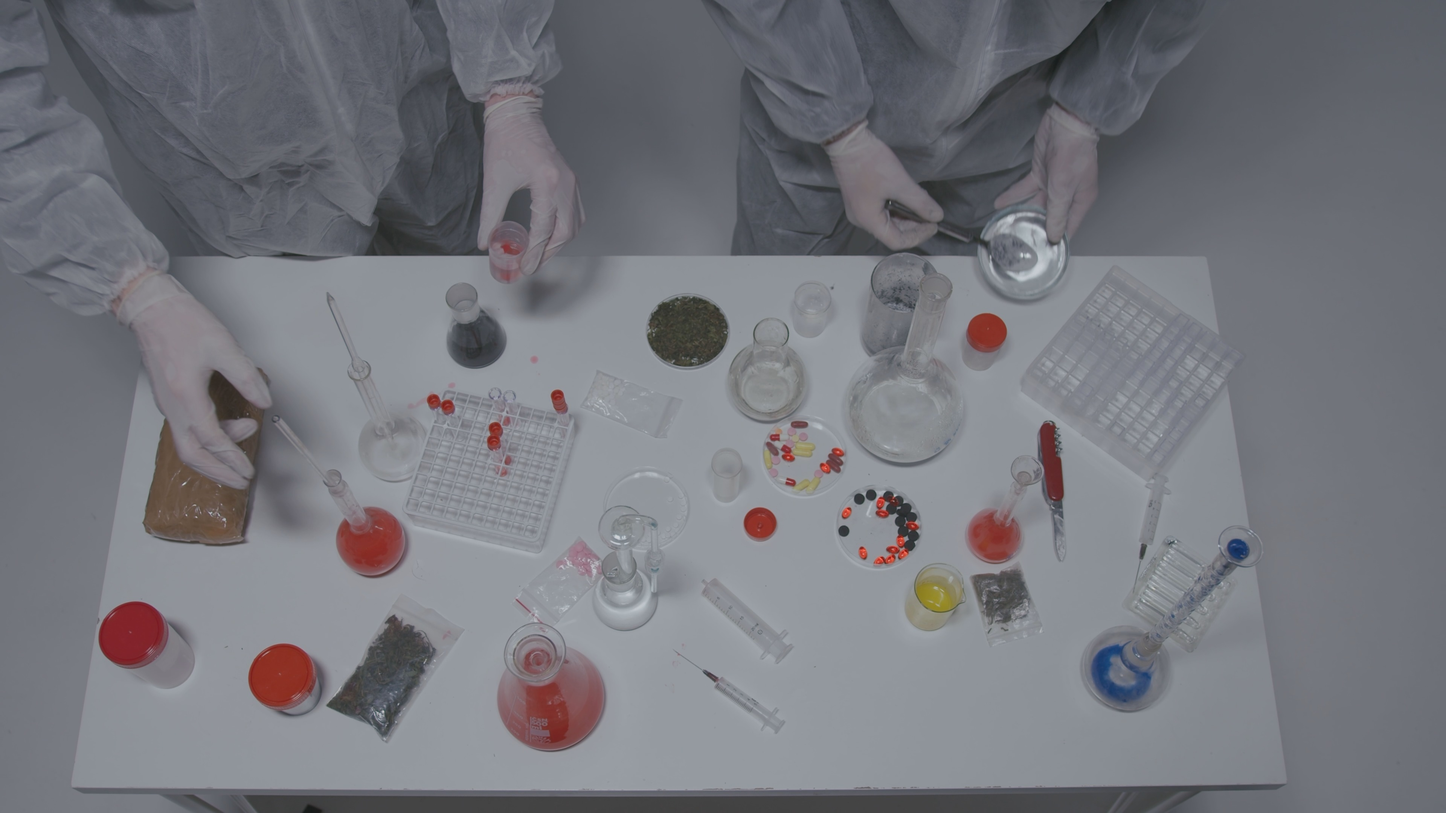gloves: (102, 256, 288, 500), (432, 79, 628, 287), (816, 127, 966, 269), (992, 103, 1106, 261)
